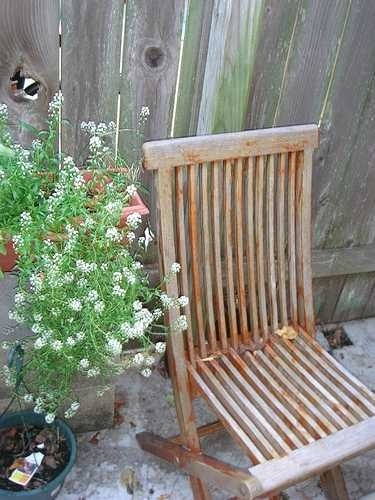obstacle: (137, 125, 373, 499)
